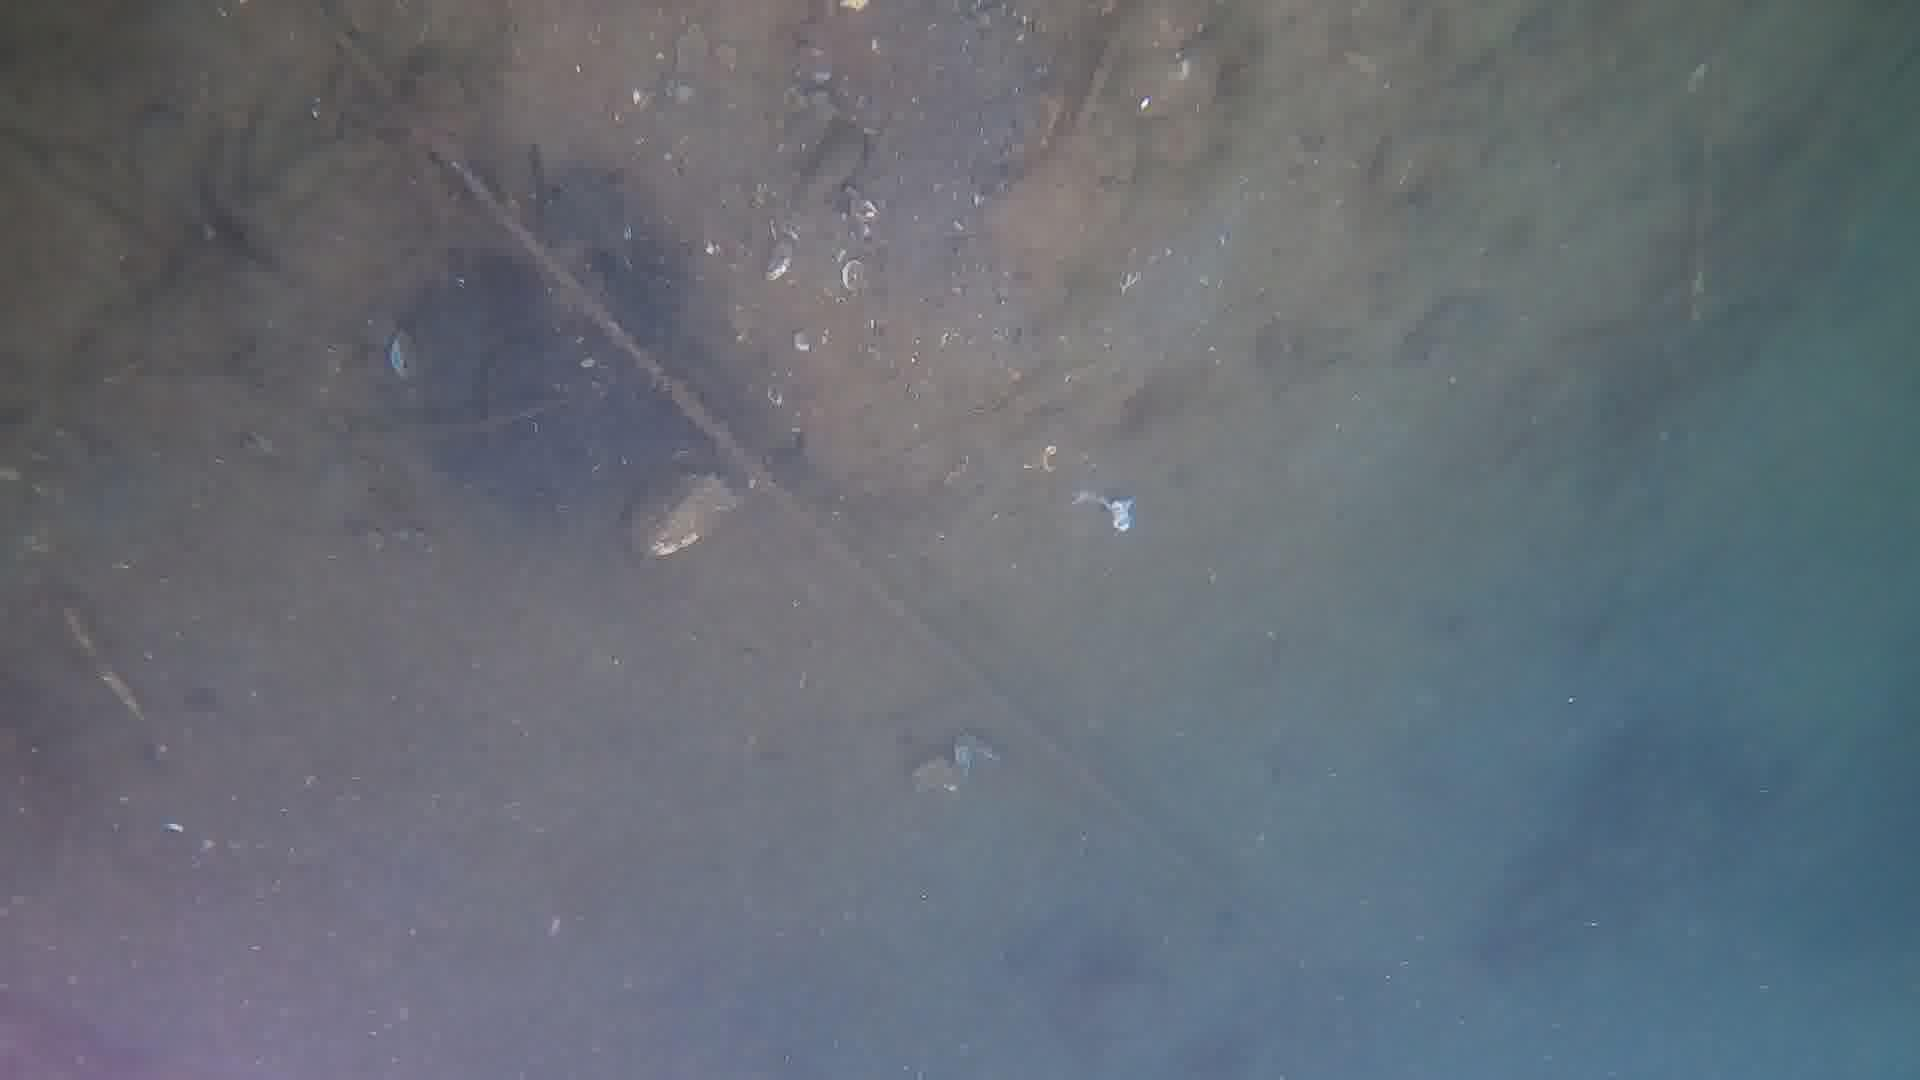rope: (302, 0, 1329, 988)
